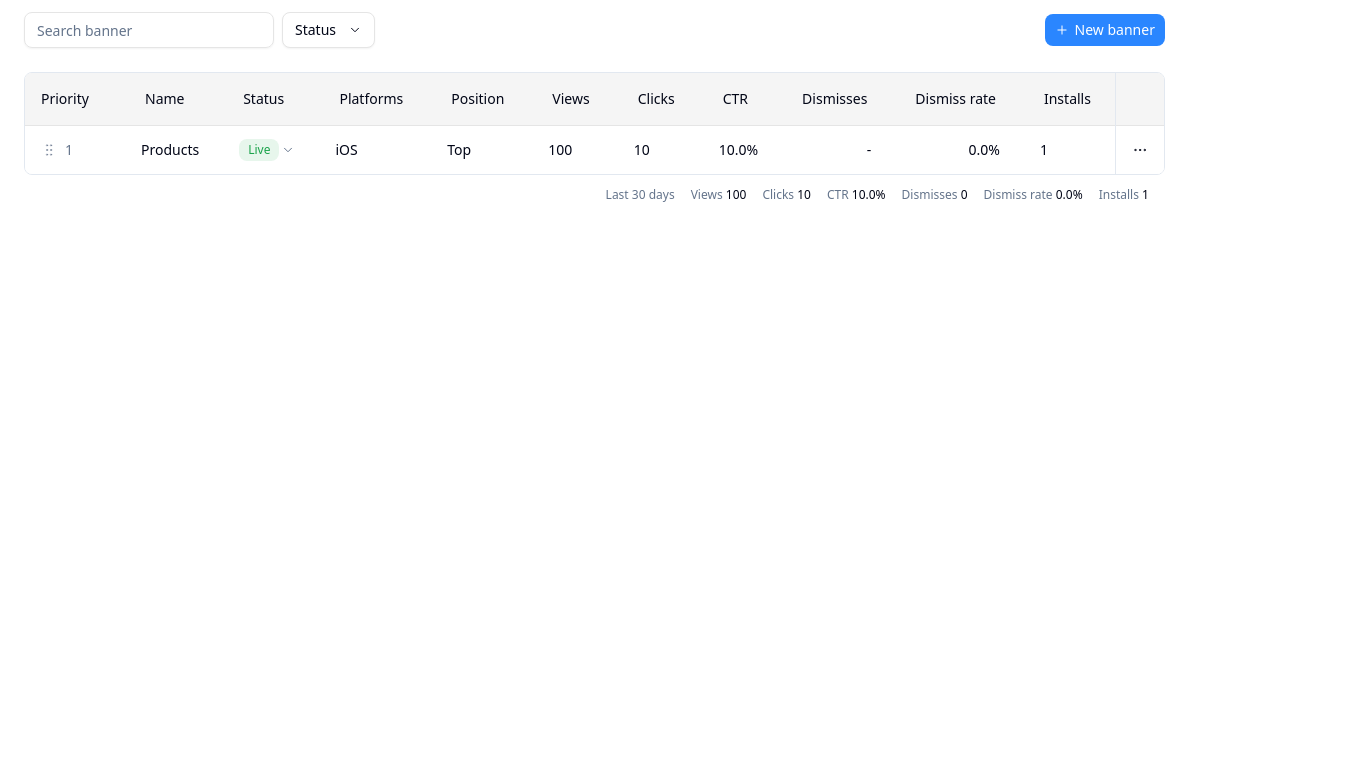
SmartBannersPage list › totals the archived banners instead, when viewing the Archived filter
Click the button with aria-label "Status: All" at (328, 30), box 282,12 -> 375,48
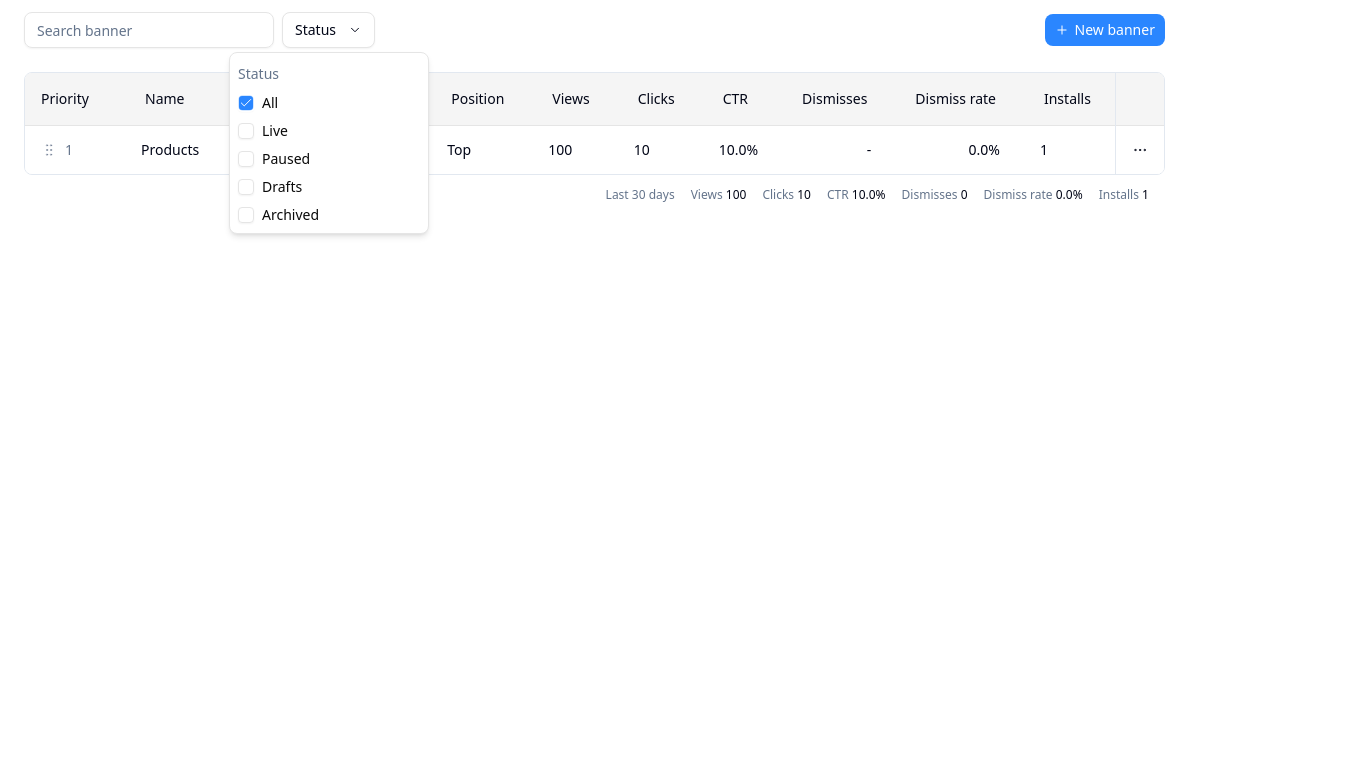
Click the checkbox named "Archived" next to "Archived" at (246, 215), box 238,207 -> 254,223
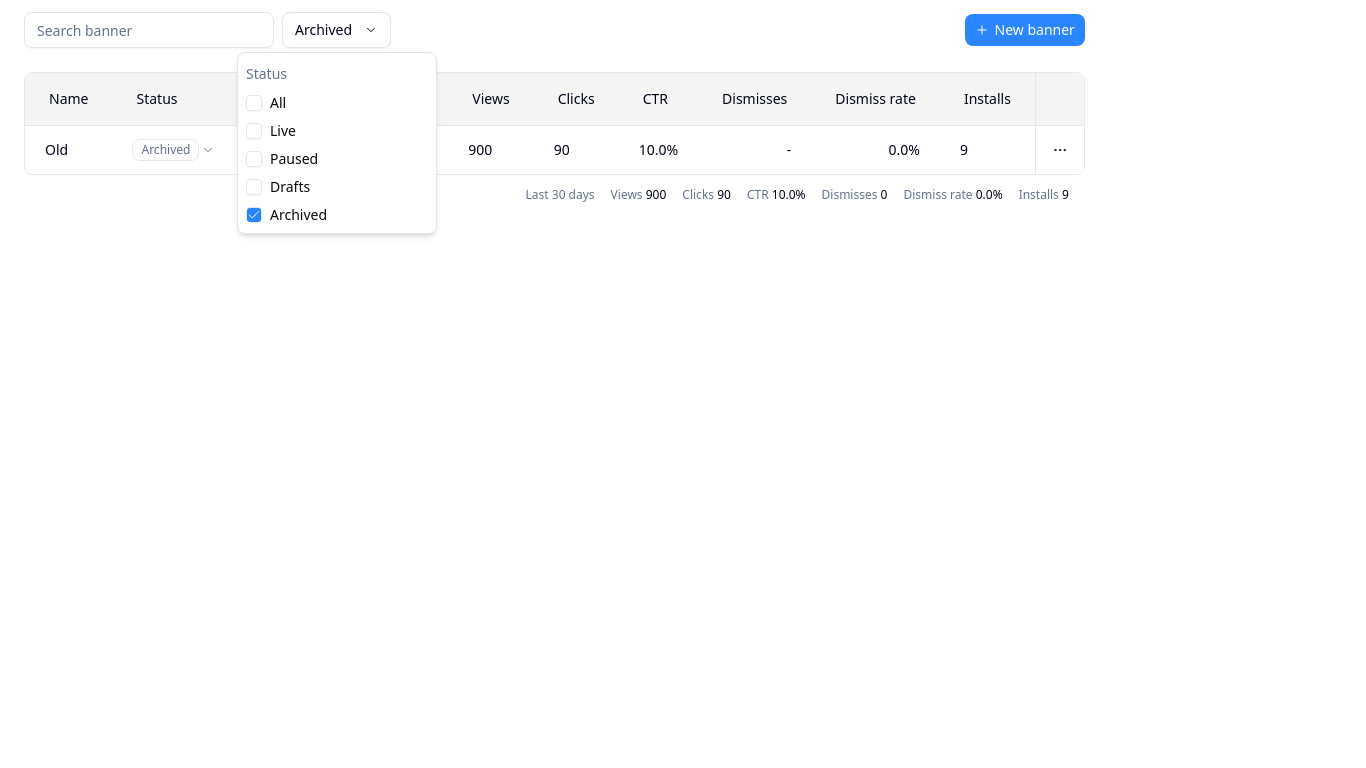
Expected: the element "Last 30 days" shows "900", 646,186 -> 666,203
Expected: the element "Last 30 days" no longer shows "100", 526,187 -> 1069,203
